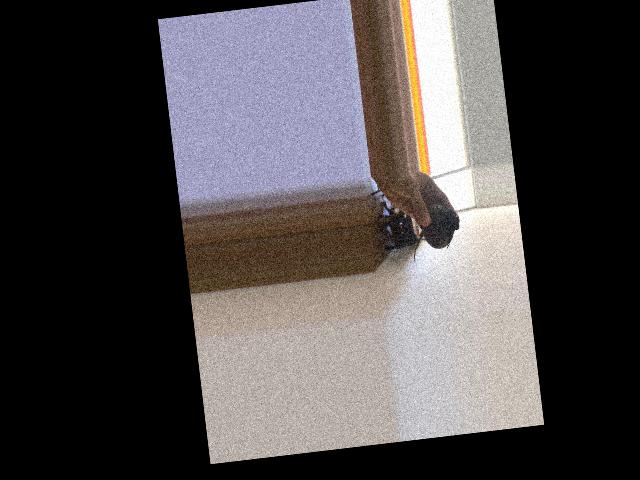beet: (407, 202, 463, 263)
